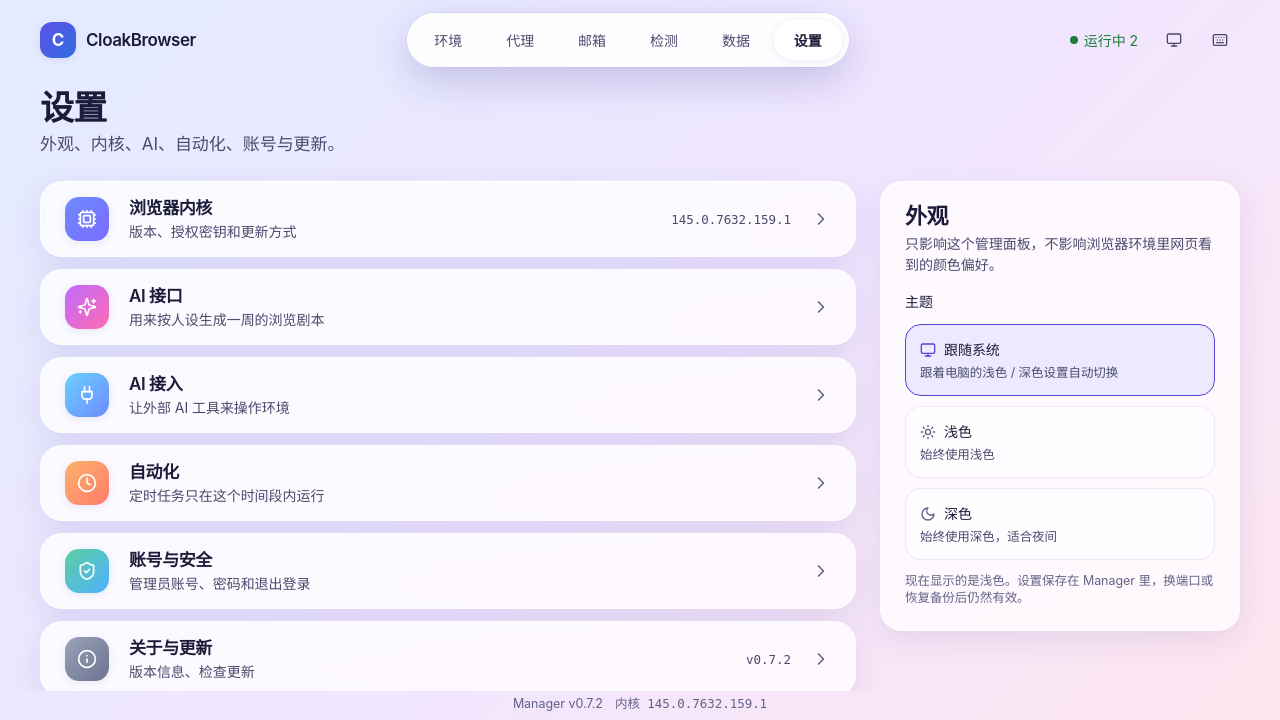
theme › rolls back and explains when saving fails
Expected: the text "Manager v0.7.2" is shown, [513,695,603,712]
Click the radio button labelled "深色": [989, 536] box [905,488,1215,560]
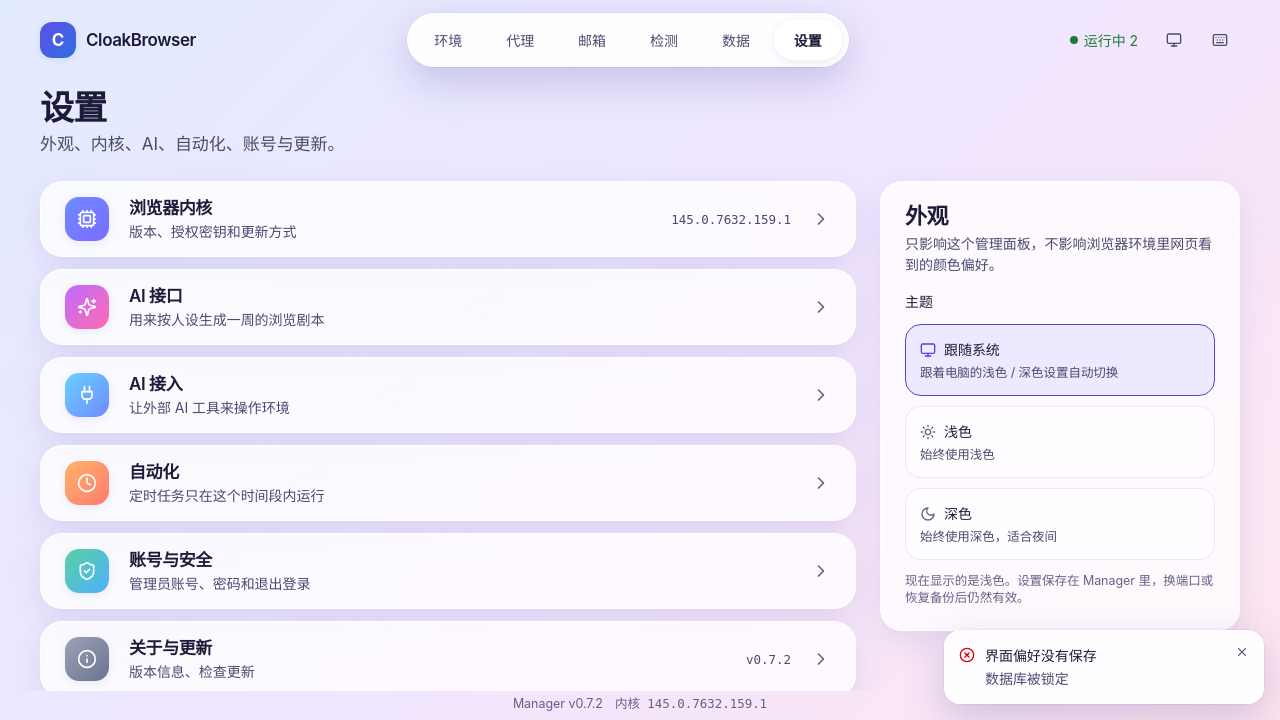
Expected: the radio button labelled "跟随系统" is checked, [905,324,1215,396]
Expected: the text "界面偏好没有保存" is shown, [985,647,1097,664]
Expected: the text "数据库被锁定" is shown, [985,670,1069,687]
